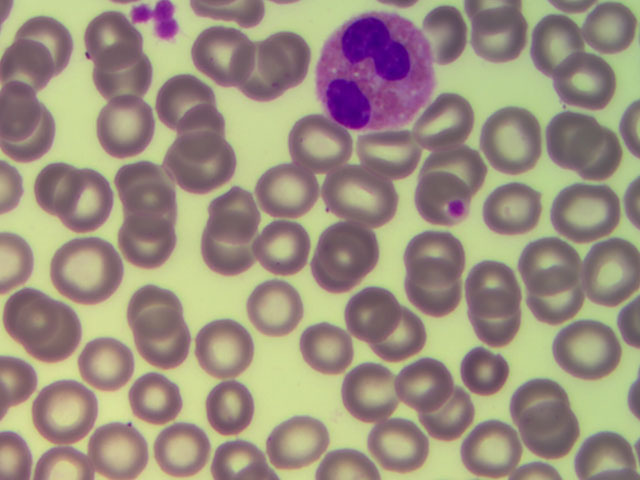Platelets: (131, 1, 181, 41), (452, 198, 464, 217)
RBC: (14, 18, 75, 74), (10, 100, 71, 156), (32, 156, 93, 212), (52, 180, 113, 236), (53, 236, 114, 292), (14, 303, 75, 359), (83, 344, 144, 400), (129, 312, 190, 368), (122, 282, 183, 338), (110, 221, 171, 277), (121, 182, 182, 238), (116, 155, 177, 211), (98, 95, 159, 151), (93, 46, 154, 102), (89, 14, 150, 70), (151, 67, 212, 123), (174, 88, 235, 144), (176, 124, 237, 180), (201, 183, 262, 239), (202, 225, 263, 281), (255, 223, 316, 279), (254, 158, 315, 214), (287, 116, 348, 172), (332, 163, 393, 219), (365, 127, 426, 183), (318, 225, 379, 281), (340, 284, 401, 340), (372, 307, 433, 363), (297, 311, 358, 367), (252, 275, 313, 331), (191, 321, 252, 377), (201, 377, 262, 433), (268, 415, 329, 471), (149, 421, 210, 477), (121, 373, 182, 429), (95, 419, 156, 475), (34, 384, 95, 440), (1, 40, 62, 96), (332, 361, 393, 417), (366, 411, 427, 467), (396, 355, 457, 411), (415, 387, 476, 443), (454, 341, 515, 397), (459, 415, 520, 471), (515, 402, 576, 458), (508, 380, 569, 436), (551, 325, 612, 381), (464, 303, 525, 359), (459, 253, 520, 309), (413, 264, 474, 320), (401, 228, 462, 284), (388, 172, 449, 228), (420, 133, 481, 189), (421, 100, 482, 156), (481, 112, 542, 168), (536, 108, 597, 164), (569, 126, 630, 182), (487, 183, 548, 239), (546, 176, 607, 232), (579, 252, 640, 308), (517, 233, 578, 289), (526, 277, 587, 333), (558, 60, 619, 116), (524, 16, 585, 72), (468, 24, 529, 80), (417, 11, 478, 67), (255, 28, 316, 84), (231, 63, 292, 119), (198, 26, 259, 82), (579, 1, 640, 56)
WBC: (313, 10, 439, 132)
